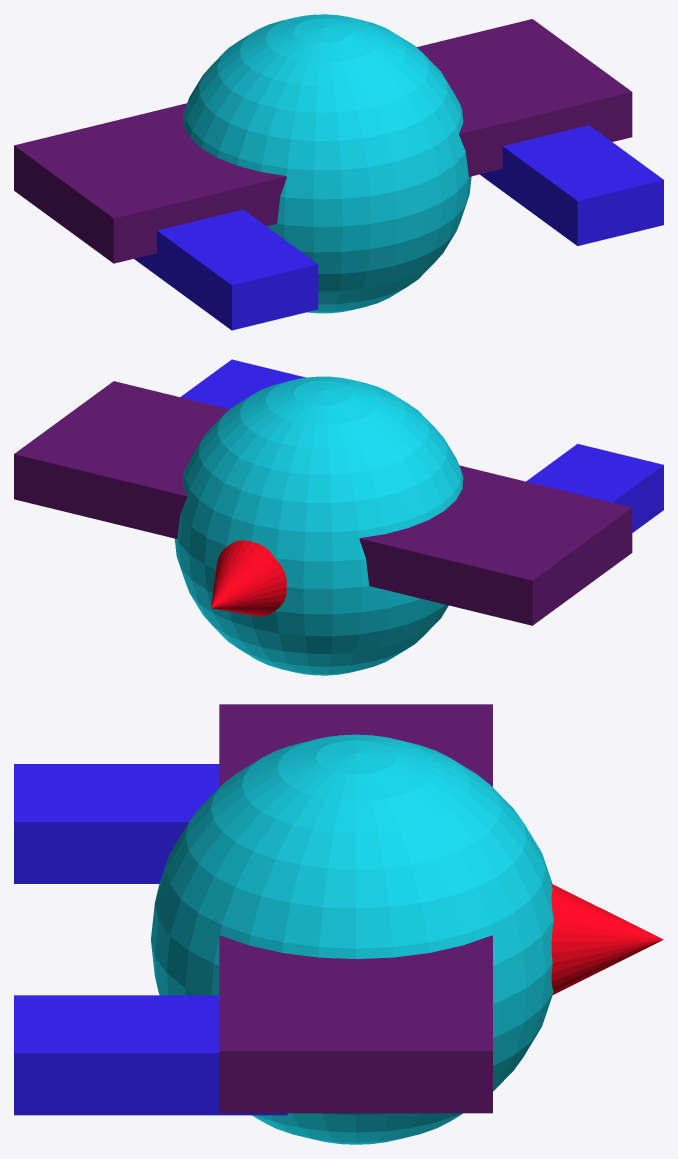
File: enemytypeC.obj
The picture shows the model from 3 angles, top to bottom: view 1: azimuth 30°, elevation 25°; view 2: azimuth 150°, elevation 25°; view 3: azimuth 270°, elevation 25°; orthographic projection. The views are drawn at different scales.
Parts seen in each view (by area): view 1: 球體.001, 立方體_立方體.004, 立方體.001_立方體.001, 立方體.002_立方體.001, 立方體.004_立方體.001, 立方體.003_立方體.001; view 2: 球體.001, 立方體.001_立方體.001, 立方體_立方體.004, 立方體.002_立方體.001, 立方體.004_立方體.001, 圓錐體_圓錐體.002, 立方體.003_立方體.001; view 3: 球體.001, 立方體.001_立方體.001, 立方體.003_立方體.001, 立方體.004_立方體.001, 立方體_立方體.004, 圓錐體_圓錐體.002, 立方體.002_立方體.001.
Boxes of the visible parts, x1,y1,x2,y2 form: 球體.001: [183, 14, 471, 313]; 立方體_立方體.004: [14, 103, 286, 263]; 立方體.001_立方體.001: [417, 19, 632, 176]; 立方體.002_立方體.001: [14, 105, 285, 262]; 立方體.004_立方體.001: [134, 209, 318, 330]; 立方體.003_立方體.001: [480, 125, 663, 245]; 球體.001: [174, 376, 463, 675]; 立方體.001_立方體.001: [14, 381, 229, 538]; 立方體_立方體.004: [360, 465, 632, 625]; 立方體.002_立方體.001: [359, 495, 632, 625]; 立方體.004_立方體.001: [526, 444, 663, 532]; 圓錐體_圓錐體.002: [211, 540, 286, 616]; 立方體.003_立方體.001: [180, 359, 305, 409]; 球體.001: [151, 734, 553, 1144]; 立方體.001_立方體.001: [219, 935, 492, 1113]; 立方體.003_立方體.001: [14, 995, 287, 1115]; 立方體.004_立方體.001: [14, 764, 219, 883]; 立方體_立方體.004: [219, 704, 492, 786]; 圓錐體_圓錐體.002: [551, 884, 663, 994]; 立方體.002_立方體.001: [219, 704, 492, 785].
Size of the model in its own units: 12 by 6 by 9.5.
7 materials, 7 textured.
